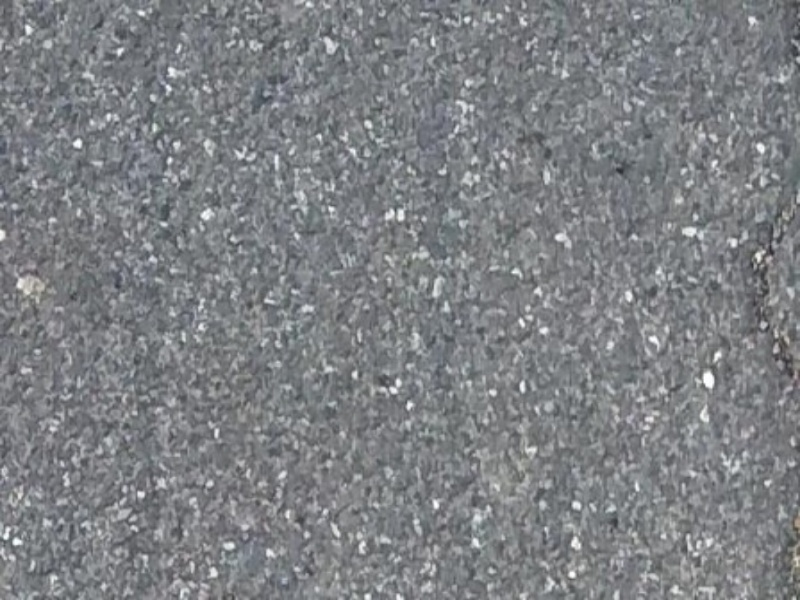crack: (767, 189, 800, 387)
